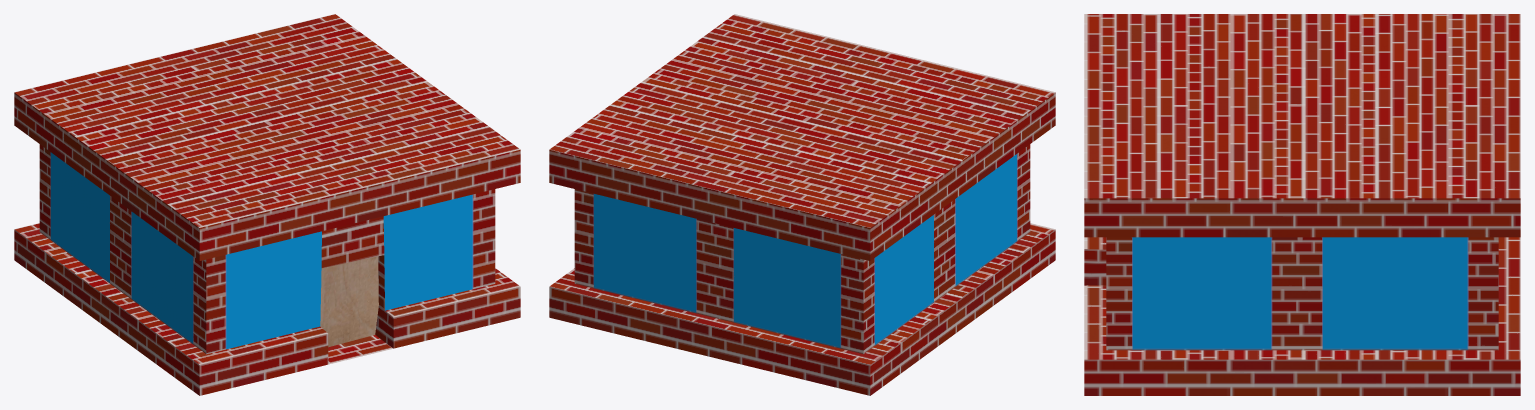
File: buildingBottom.fbx
The picture shows the model from 3 angles, left to right: view 1: azimuth 30°, elevation 25°; view 2: azimuth 150°, elevation 25°; view 3: azimuth 270°, elevation 25°; orthographic projection. The views are drawn at different scales.
Visible parts, largest first — view 1: Bottom; view 2: Bottom; view 3: Bottom.
Part boxes in pixels (<box>): Bottom: <box>14,14,520,395</box>; Bottom: <box>549,14,1055,395</box>; Bottom: <box>1084,14,1520,395</box>.
Bounding box in the file's own units: 20 × 10 × 20.
2 materials, 2 textured.
